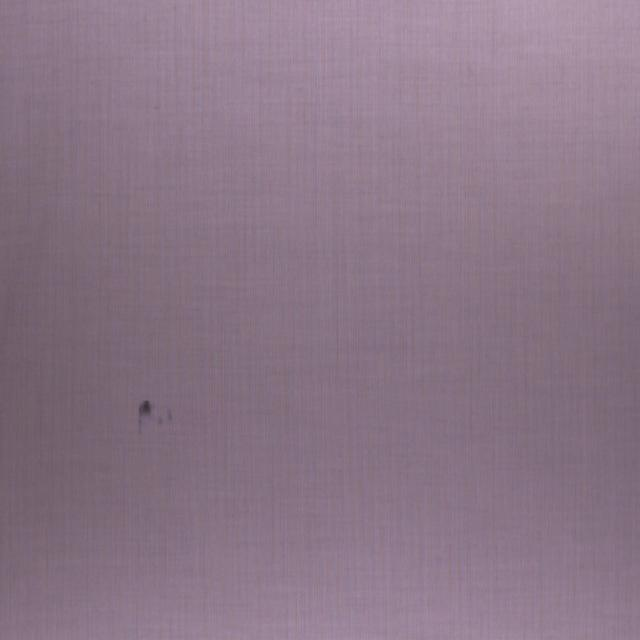dirty: (139, 400, 152, 418), (157, 416, 165, 426), (167, 409, 173, 422), (138, 421, 142, 434)
